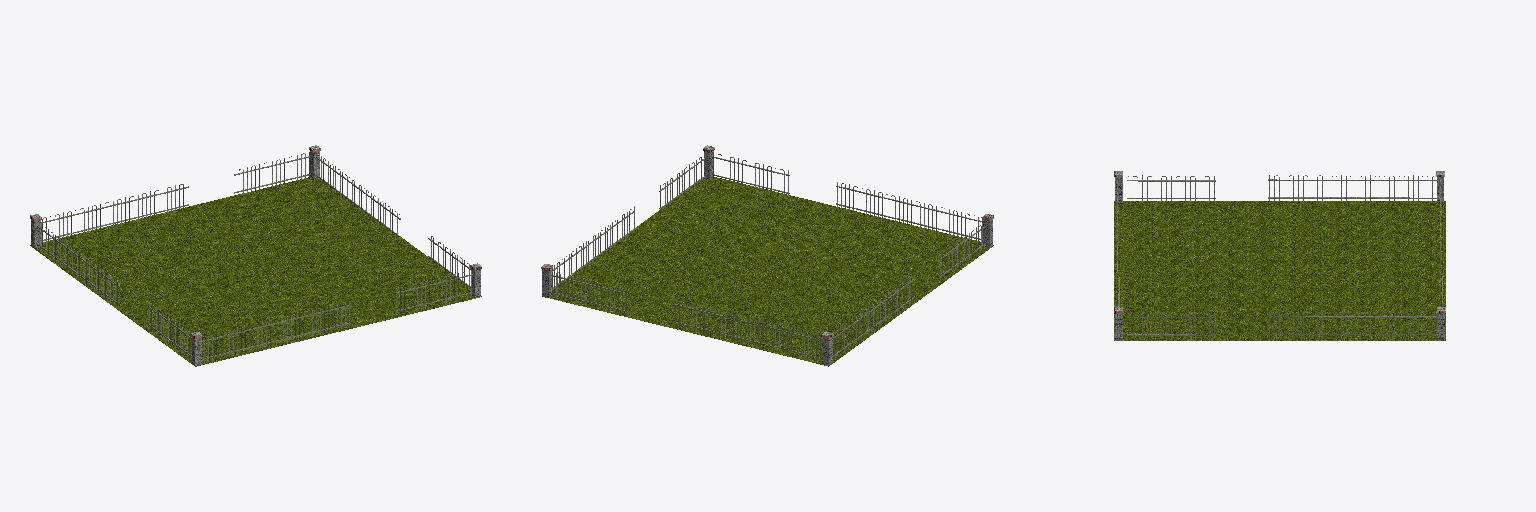
3 views of the same model, side by side, from view 1: azimuth 30°, elevation 25°; view 2: azimuth 150°, elevation 25°; view 3: azimuth 270°, elevation 25° (orthographic).
Parts seen in each view (by area): view 1: herbe.001, metal_fence_large_loop_spear.008_metal_fence_large_loop_spear.01, metal_fence_large_loop_spear.011_metal_fence_large_loop_spear.01, metal_fence_large_loop_spear.006_metal_fence_large_loop_spear.01, metal_fence_large_loop_spear.009_metal_fence_large_loop_spear.01, metal_fence_large_loop_spear.010_metal_fence_large_loop_spear.01; view 2: herbe.001, metal_fence_large_loop_spear.006_metal_fence_large_loop_spear.01, metal_fence_large_loop_spear.011_metal_fence_large_loop_spear.01, metal_fence_large_loop_spear.008_metal_fence_large_loop_spear.01, metal_fence_large_loop_spear.007_metal_fence_large_loop_spear.01, metal_fence_large_loop_spear.009_metal_fence_large_loop_spear.01; view 3: herbe.001.
Boxes of the visible parts, x1=… form: herbe.001: x1=30, y1=177, x2=481, y2=366; metal_fence_large_loop_spear.008_metal_fence_large_loop_spear.01: x1=112, y1=184, x2=188, y2=226; metal_fence_large_loop_spear.011_metal_fence_large_loop_spear.01: x1=274, y1=300, x2=350, y2=342; metal_fence_large_loop_spear.006_metal_fence_large_loop_spear.01: x1=234, y1=152, x2=310, y2=194; metal_fence_large_loop_spear.009_metal_fence_large_loop_spear.01: x1=395, y1=270, x2=472, y2=314; metal_fence_large_loop_spear.010_metal_fence_large_loop_spear.01: x1=202, y1=320, x2=274, y2=362; herbe.001: x1=550, y1=177, x2=993, y2=366; metal_fence_large_loop_spear.006_metal_fence_large_loop_spear.01: x1=551, y1=271, x2=627, y2=314; metal_fence_large_loop_spear.011_metal_fence_large_loop_spear.01: x1=836, y1=182, x2=912, y2=224; metal_fence_large_loop_spear.008_metal_fence_large_loop_spear.01: x1=674, y1=299, x2=750, y2=344; metal_fence_large_loop_spear.007_metal_fence_large_loop_spear.01: x1=749, y1=320, x2=822, y2=361; metal_fence_large_loop_spear.009_metal_fence_large_loop_spear.01: x1=712, y1=152, x2=789, y2=196; herbe.001: x1=1114, y1=201, x2=1445, y2=340.
Bounding box in the file's own units: 30.01 × 3.01 × 30.07.
17 materials, 3 textured.